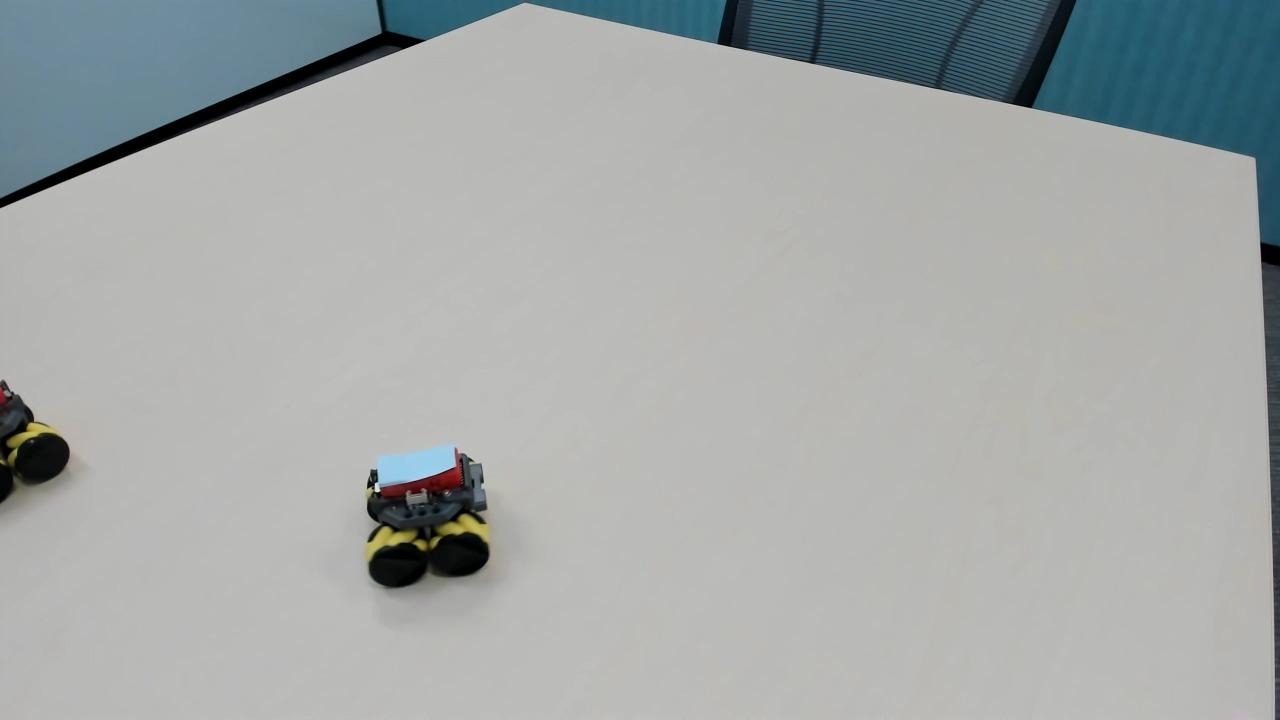B-Robot: (349, 436, 515, 593)
R-Robot: (0, 353, 74, 511)
